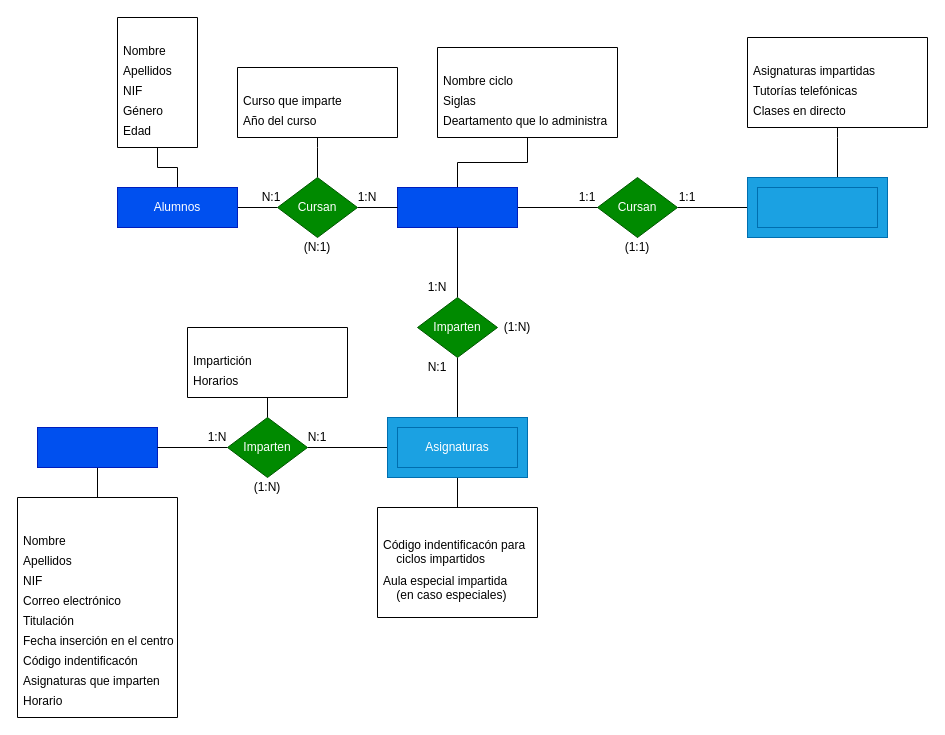
The diagram is 945 pixels wide and 735 high, and some of its shapes have lost their labels. The box of each missing label's shape, as (x1, y1, x2, y2) in pixels:
Ciclos: (396, 186, 518, 228)
Formación a distancia: (756, 186, 878, 228)
Profesores: (36, 426, 158, 468)
